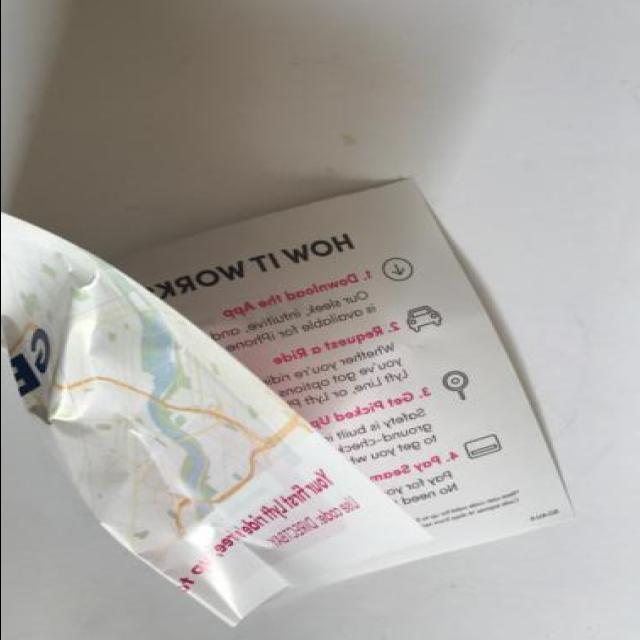kertas: (0, 176, 575, 629)
